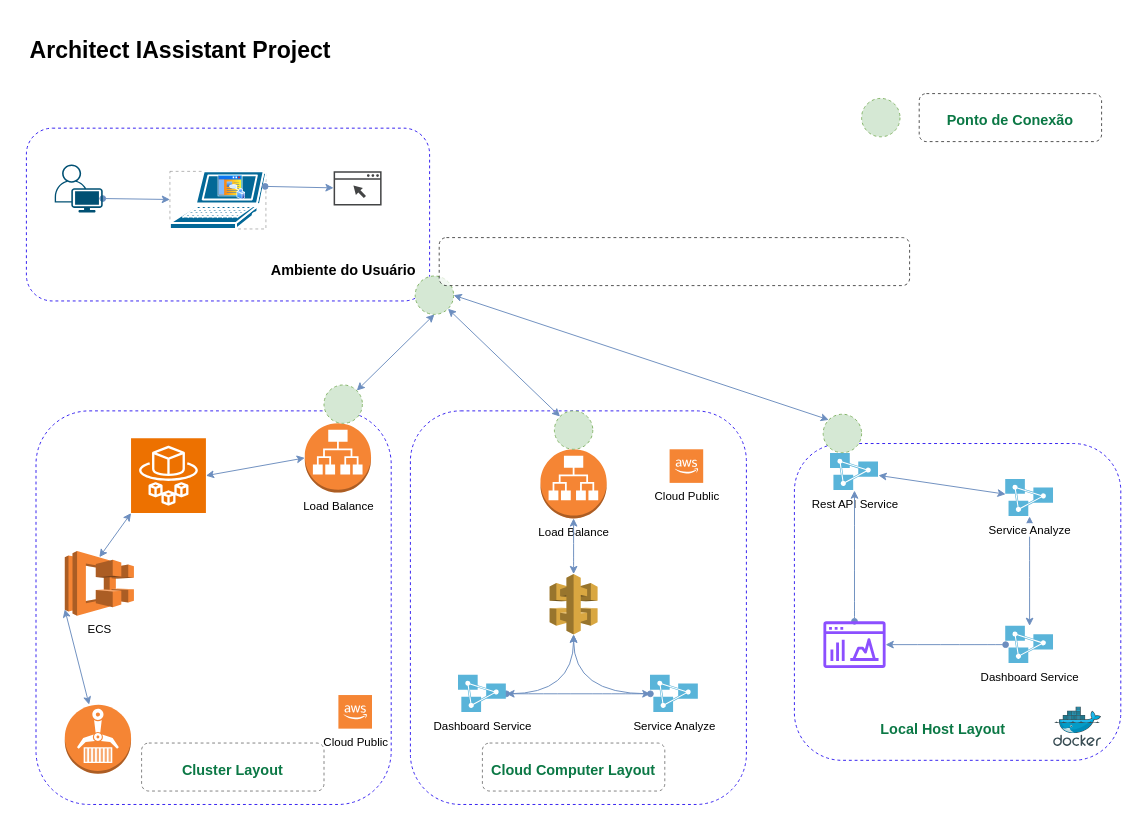
Some shapes in this 1138 by 821 pixel diagram are drawn without their labels. The centre of each missing label's shape, as x and y in pixels:
"API Gateway" goes at (573,604).
"Browser" goes at (357,188).
"ECR" goes at (97,739).
"Fargate" goes at (168,475).
"User" goes at (78,188).
"Usuário pode se conectar com qualquer um ambiente externo" goes at (674,261).
